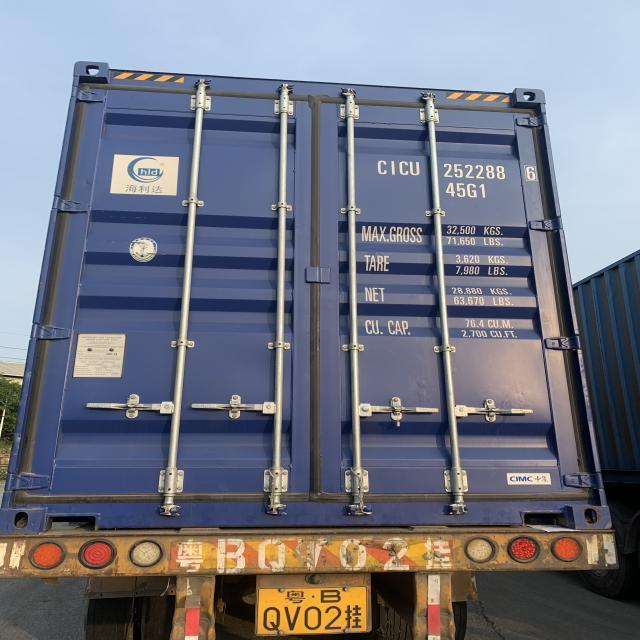ISO: (447, 184, 487, 199)
container_number: (379, 160, 536, 180)
